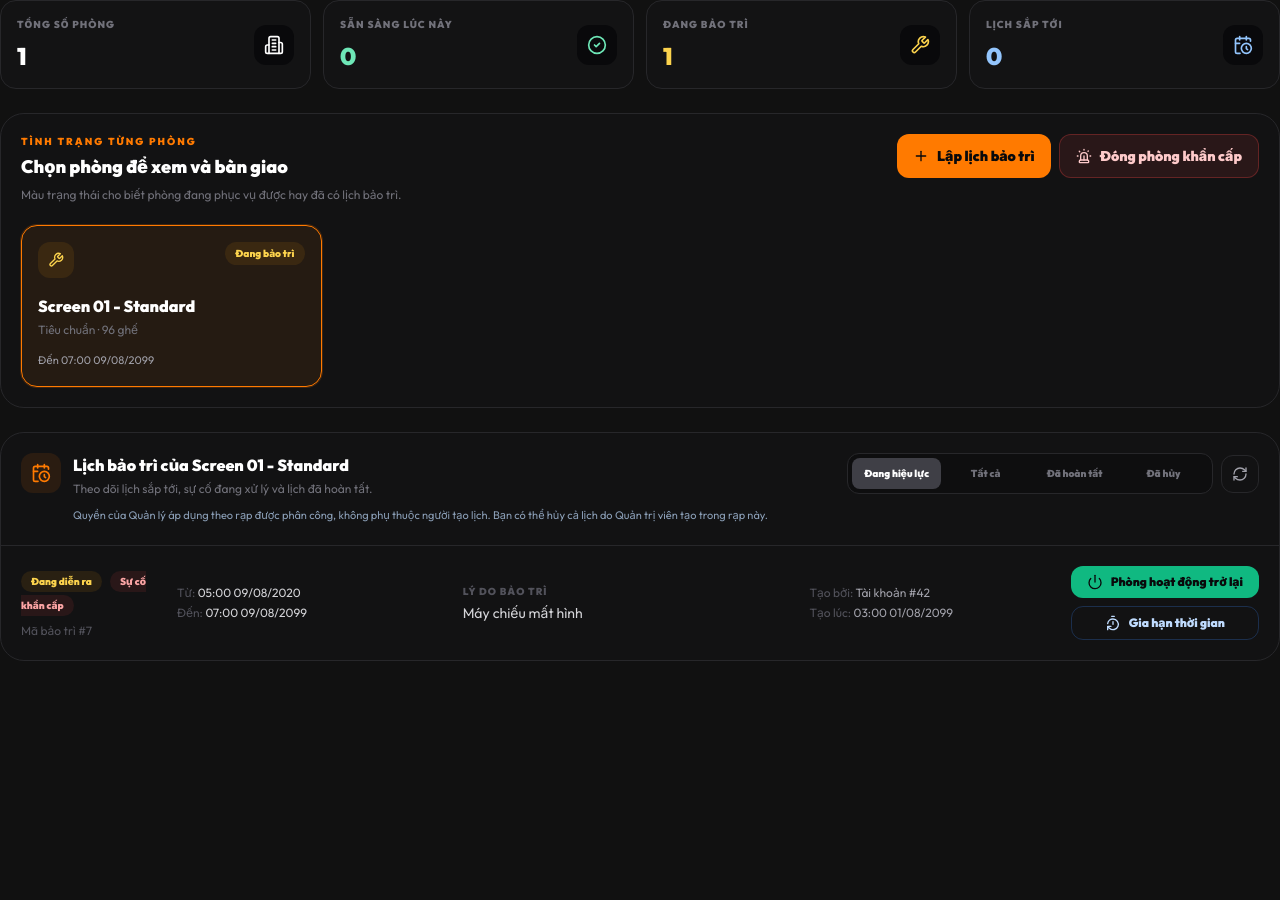
MaintenanceWorkspace › uses a separate readiness flow when an active room can operate again
The width and height of the screenshot is (1280, 900).
Click the button "Phòng hoạt động trở lại".
click(1165, 582)  # box [1071,566,1259,598]
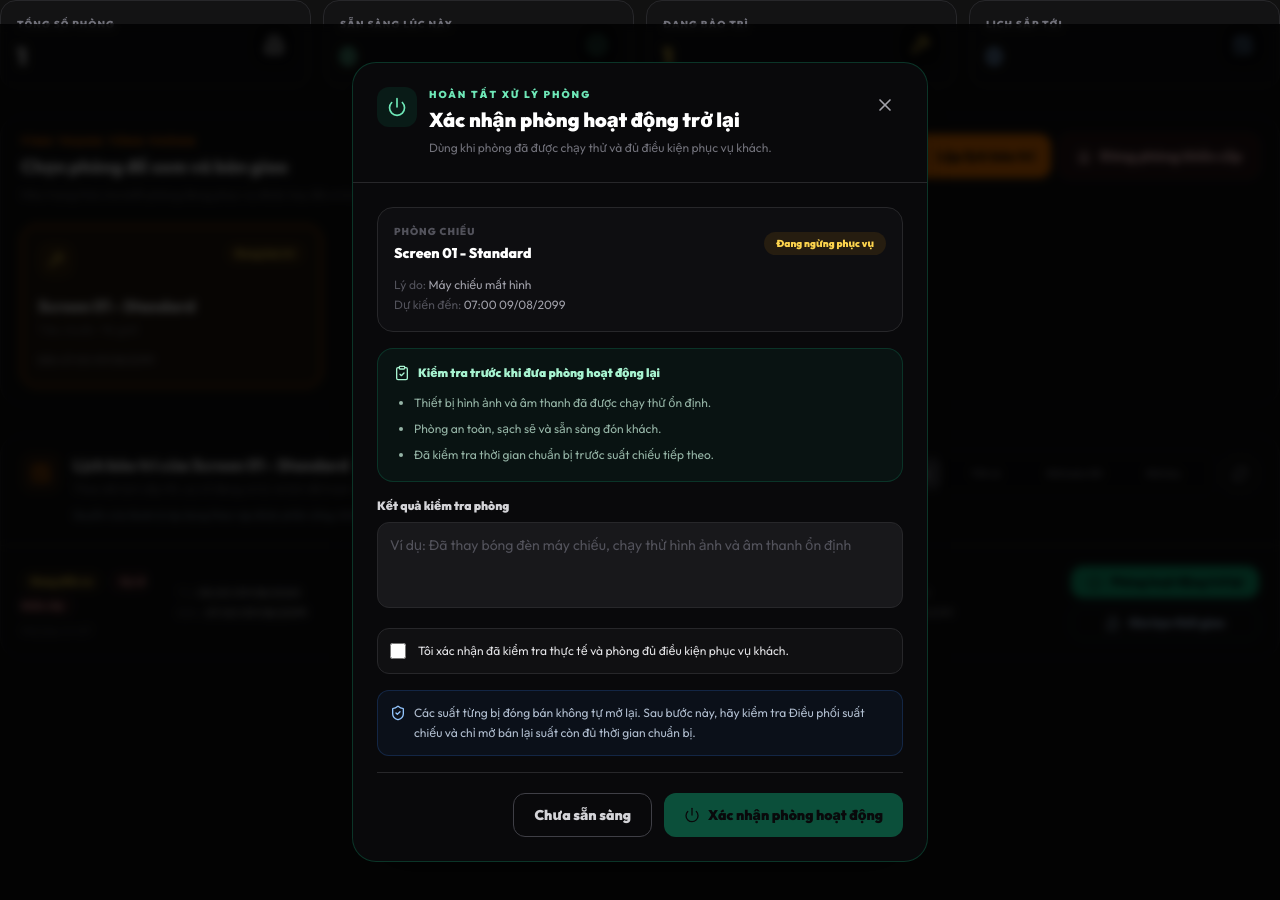
Replace the text in the text box with placeholder "Đã thay bóng đèn máy chiếu" with "Đã chạy thử hình ảnh và âm thanh ổn định" at point(640, 565), box [377,522,903,608]
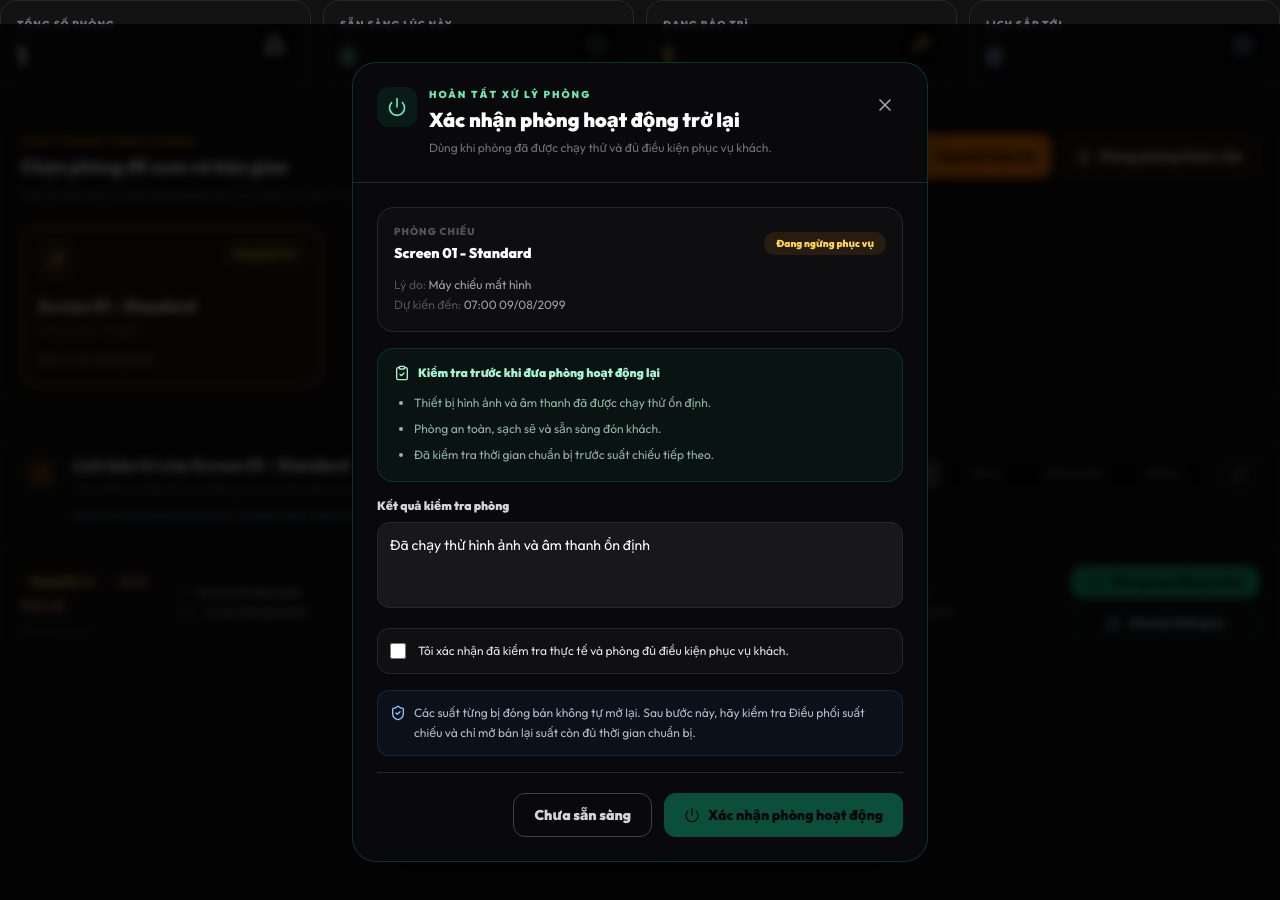
Click the checkbox.
click(398, 651)  # box [390,643,406,659]
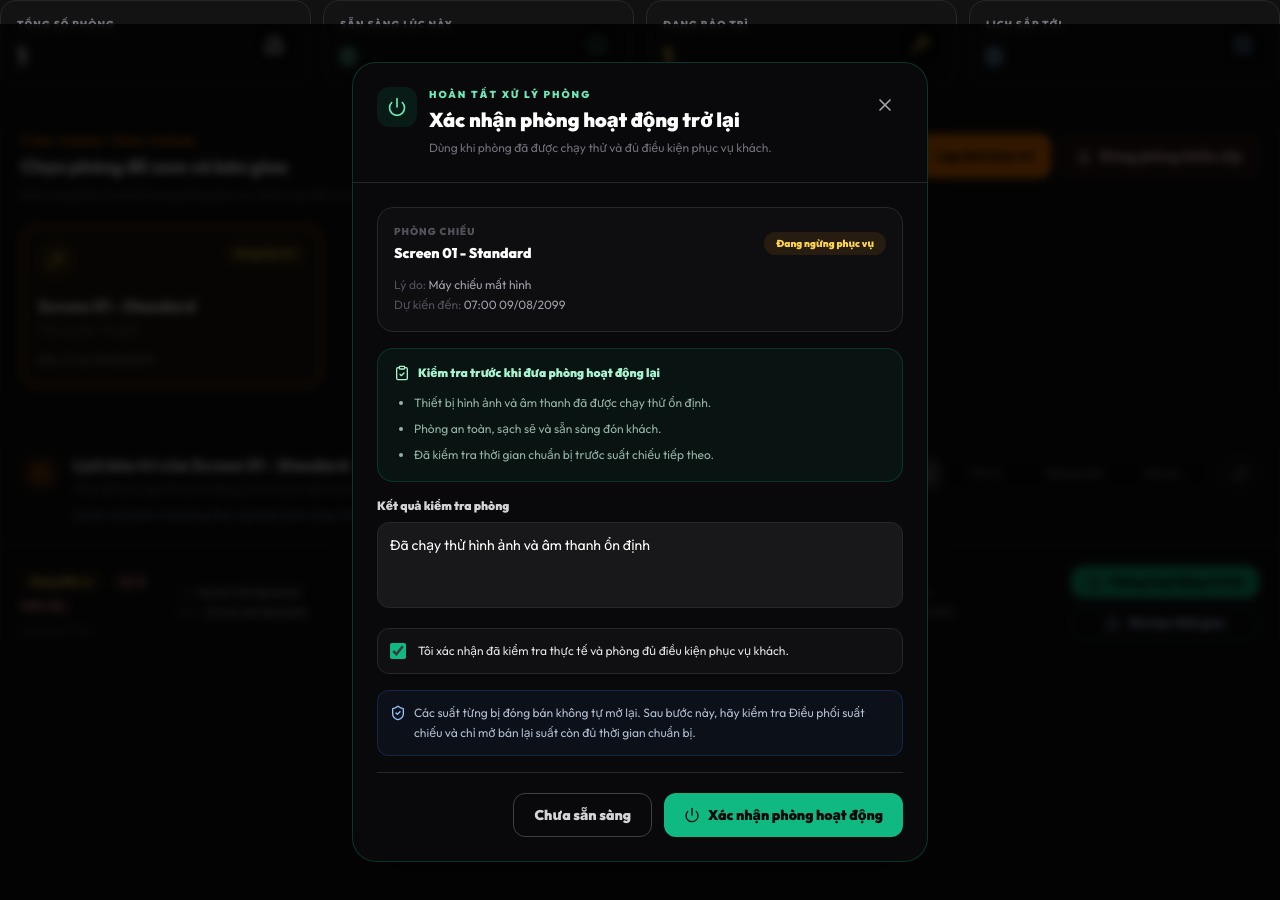
Click the button "Xác nhận phòng hoạt động".
click(784, 815)  # box [664,793,903,837]
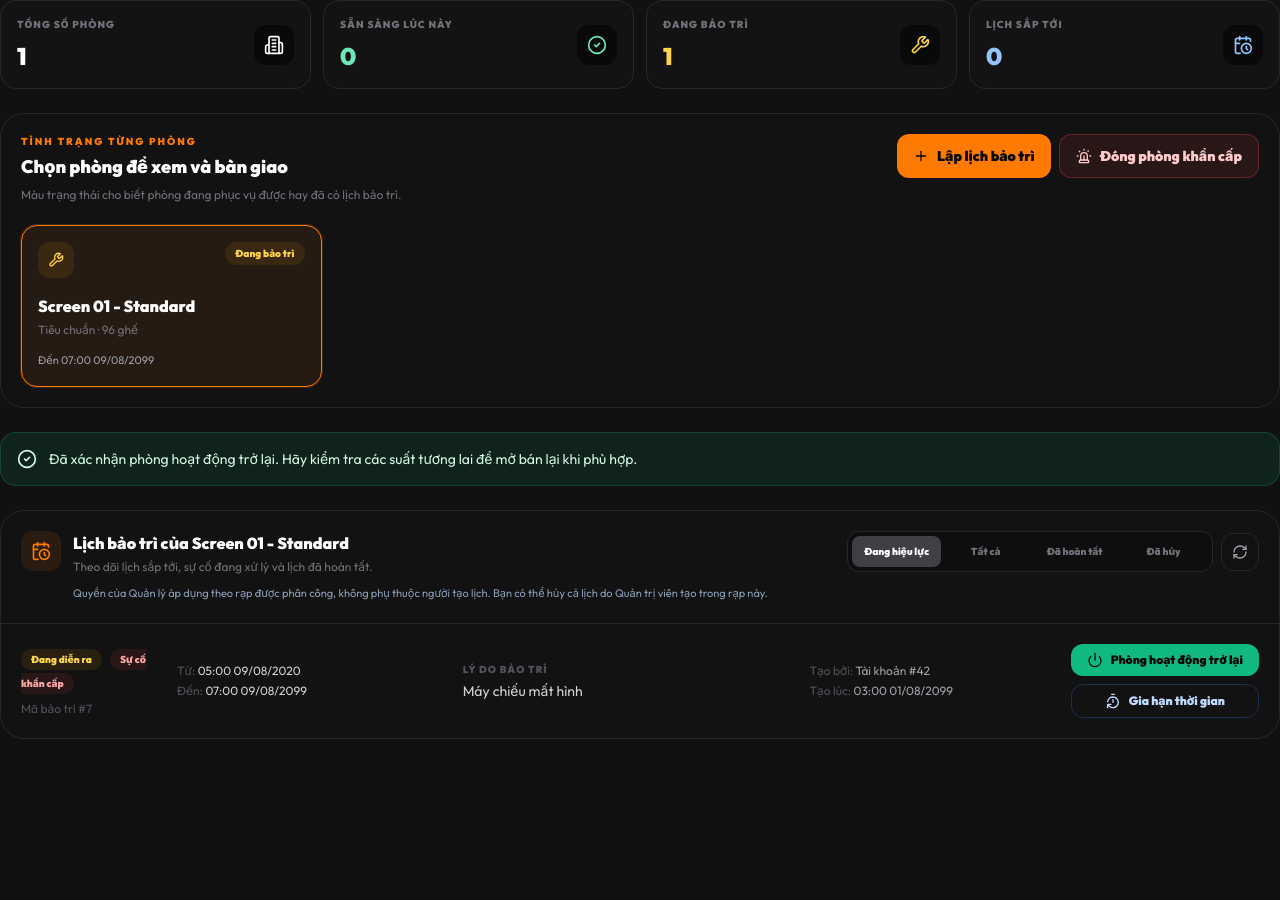
Now the message shows "Đã xác nhận phòng hoạt động trở lại", box [49,450,637,468]
